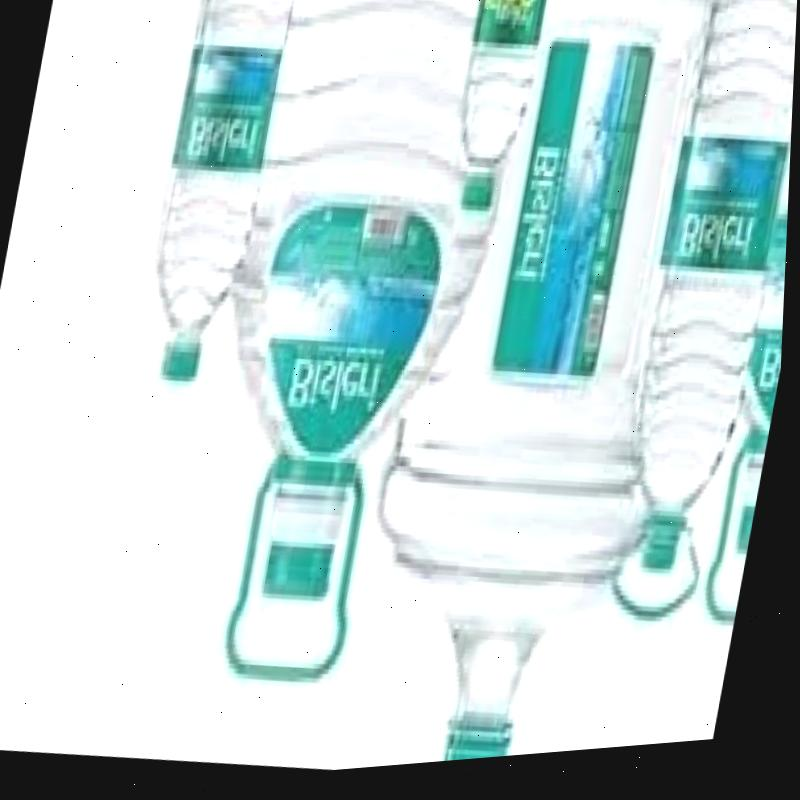botella: (610, 0, 799, 594), (132, 0, 298, 392), (441, 0, 551, 225)
